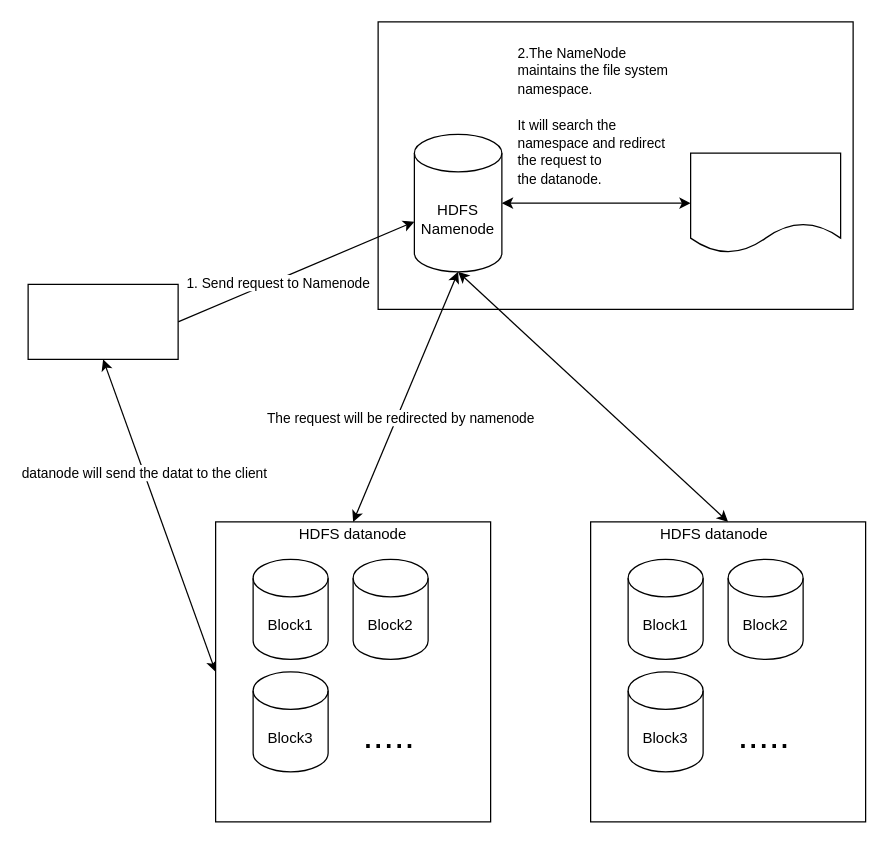
Image size: 888x844. Some labels were removed from this diagram. Here are the shapes that lost their labels. From the top down, the centre of each, then its label:
point (765, 202): Metadata - File namespace
point (102, 321): Appliction (Client)
